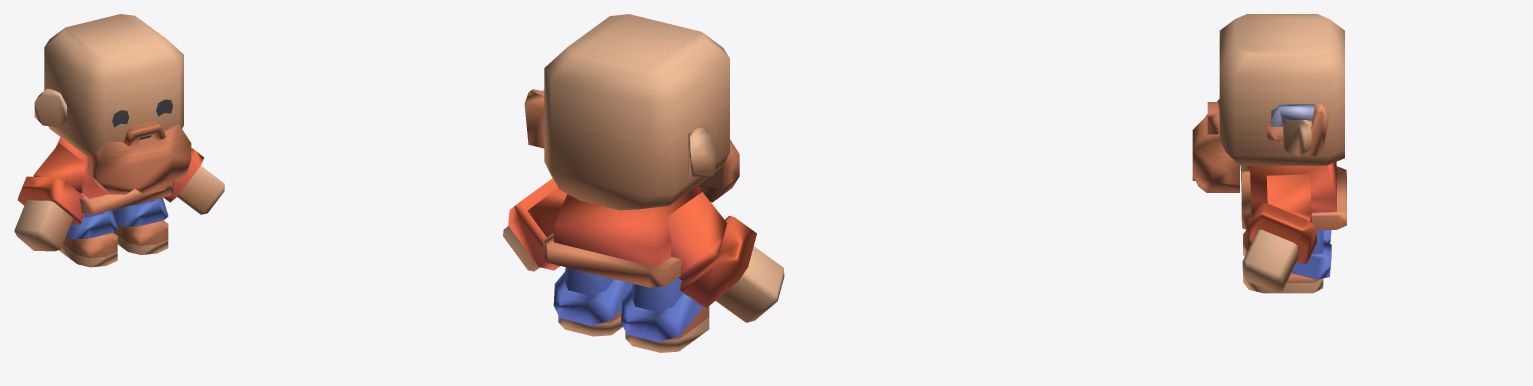
Rendered from rival_sprint_5.glb.
3 views of the same model, side by side, from view 1: azimuth 30°, elevation 25°; view 2: azimuth 150°, elevation 25°; view 3: azimuth 270°, elevation 25° (orthographic). The views are drawn at different scales.
Visible parts, largest first — view 1: rival-sprint-5; view 2: rival-sprint-5; view 3: rival-sprint-5.
Part boxes in pixels (<box>): rival-sprint-5: <box>14,14,224,267</box>; rival-sprint-5: <box>503,14,784,352</box>; rival-sprint-5: <box>1192,14,1346,293</box>.
Size of the model in its own units: 1.2 by 0.6716 by 1.2.
Materials: 1 (1 with a texture image).
